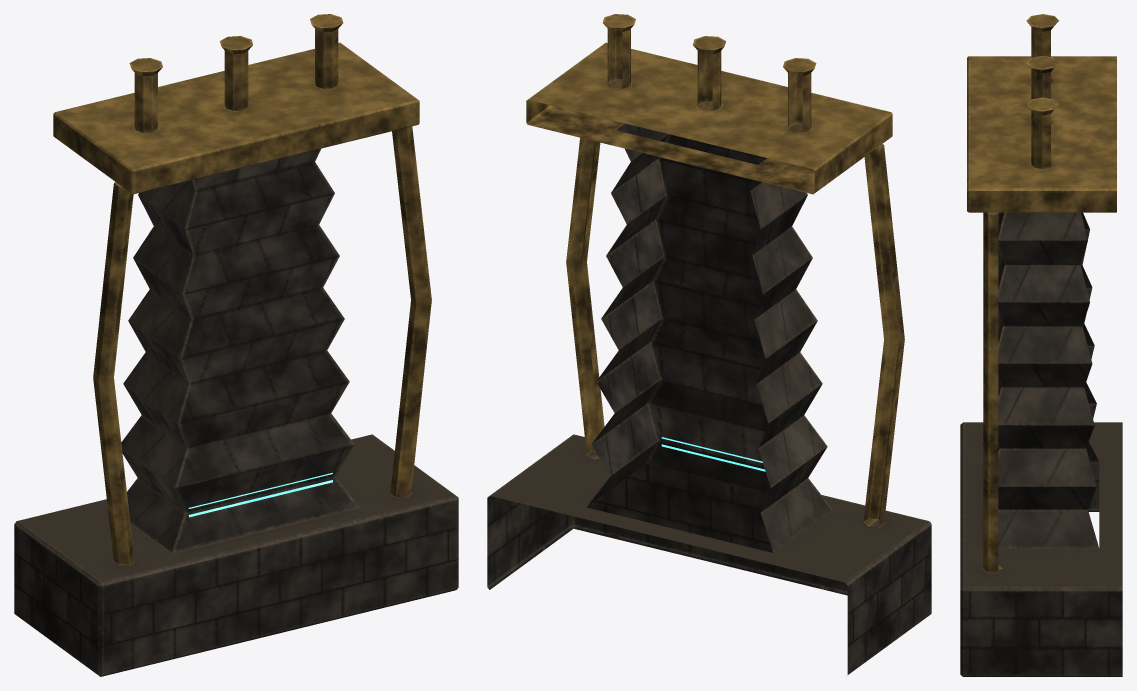
Rendered from ClockLung_BG_Far_B.fbx.
3 renders of one model, left to right at view 1: azimuth 30°, elevation 25°; view 2: azimuth 150°, elevation 25°; view 3: azimuth 270°, elevation 25°, orthographic. The views are drawn at different scales.
Parts seen in each view (by area): view 1: ClockLung_BG_Far_B; view 2: ClockLung_BG_Far_B; view 3: ClockLung_BG_Far_B.
Boxes of the visible parts, box(x1,y1,x2,y2) form: ClockLung_BG_Far_B: box(14, 14, 458, 676); ClockLung_BG_Far_B: box(487, 14, 931, 674); ClockLung_BG_Far_B: box(960, 14, 1122, 676).
Bounding box in the file's own units: 12 × 17.8 × 4.92.
